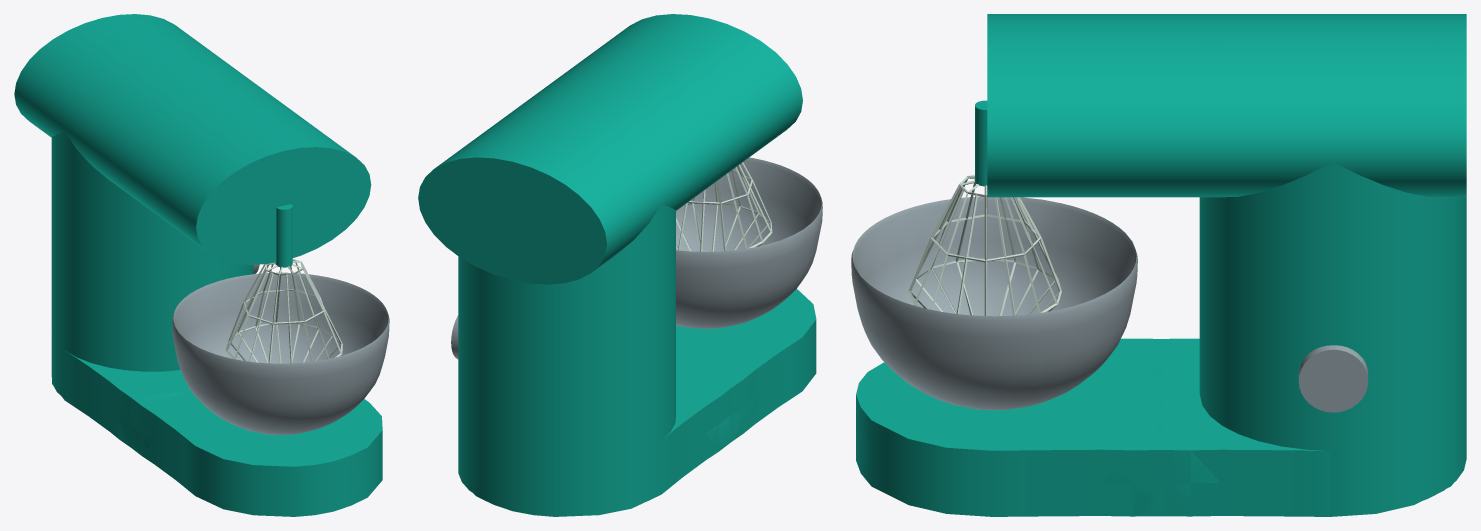
The model's file is blender.gltf.
The picture shows the model from 3 angles, left to right: view 1: azimuth 30°, elevation 25°; view 2: azimuth 150°, elevation 25°; view 3: azimuth 270°, elevation 25°; orthographic projection. The views are drawn at different scales.
Parts seen in each view (by area): view 1: Sphere; view 2: Sphere; view 3: Sphere.
Part boxes in pixels (x1,y1,x2,y2): Sphere: (14,14,389,516); Sphere: (418,14,822,516); Sphere: (851,14,1466,516).
Bounding box in the file's own units: 2.15 × 3.54 × 4.61.
